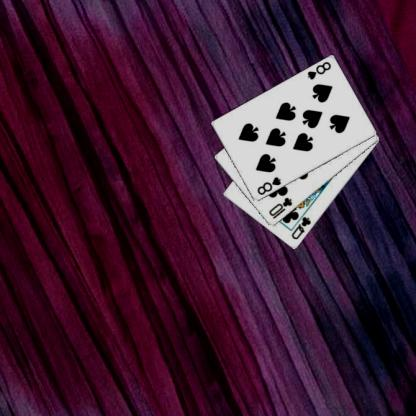10C: (266, 195, 294, 220)
8S: (304, 59, 332, 81), (254, 175, 282, 196)
QC: (289, 214, 312, 241)
